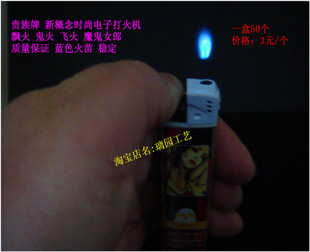fire: (196, 25, 219, 64)
